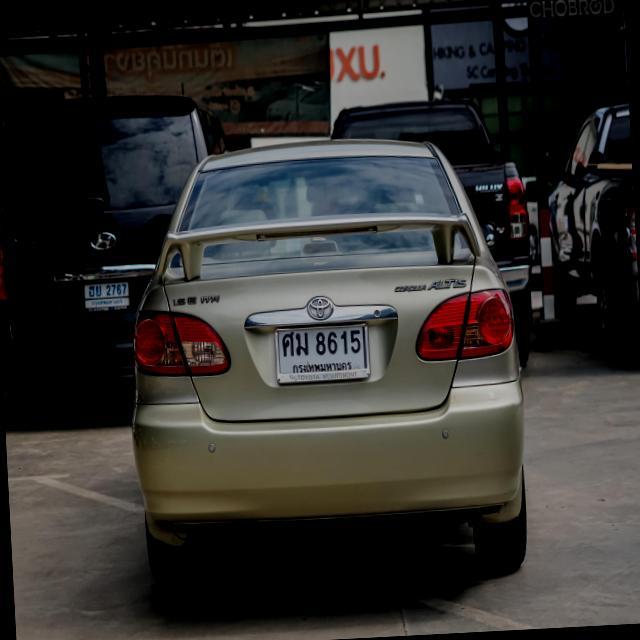license_plate: (273, 318, 372, 388), (82, 278, 133, 313)
